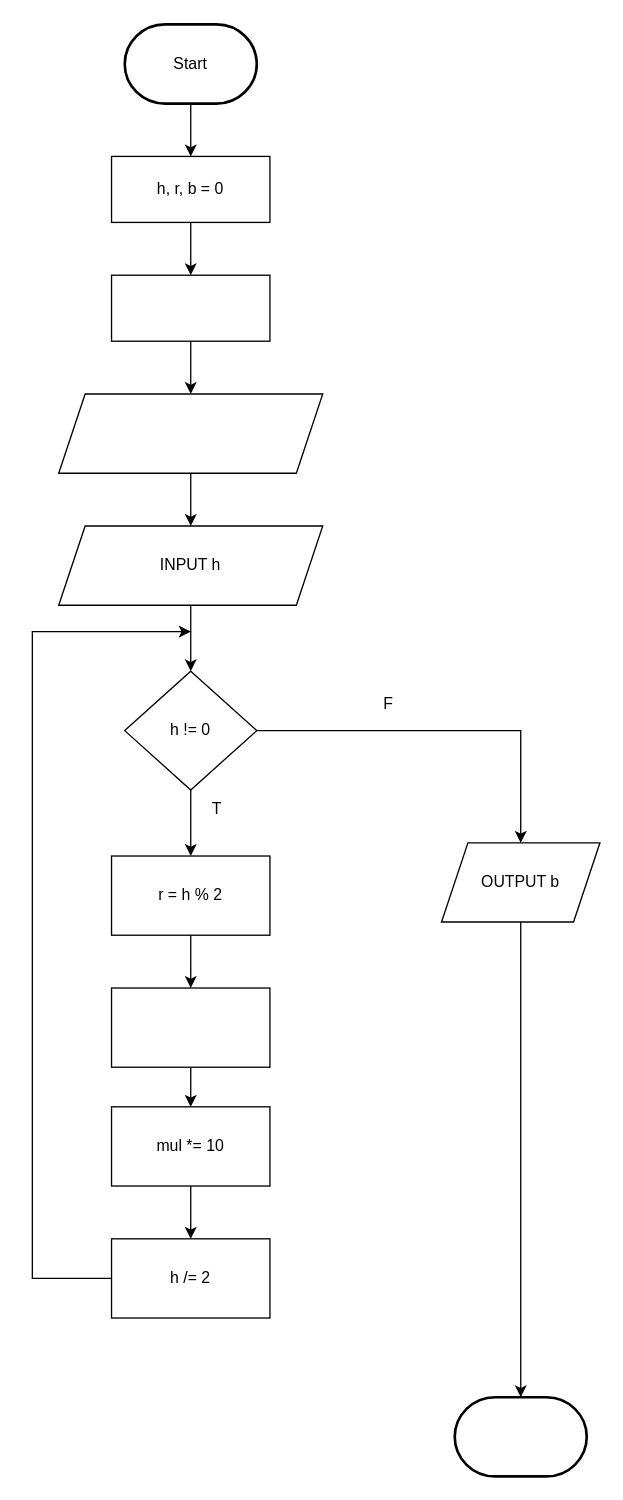
Image size: 623x1500. Some labels were removed from this diagram. Each missing label, with the centre of its shape:
b = b + ( r * mul ): [190,1027]
mul = 1: [190,307]
OUTPUT "Enter Value Hex: ": [190,433]
Stop: [520,1436]
